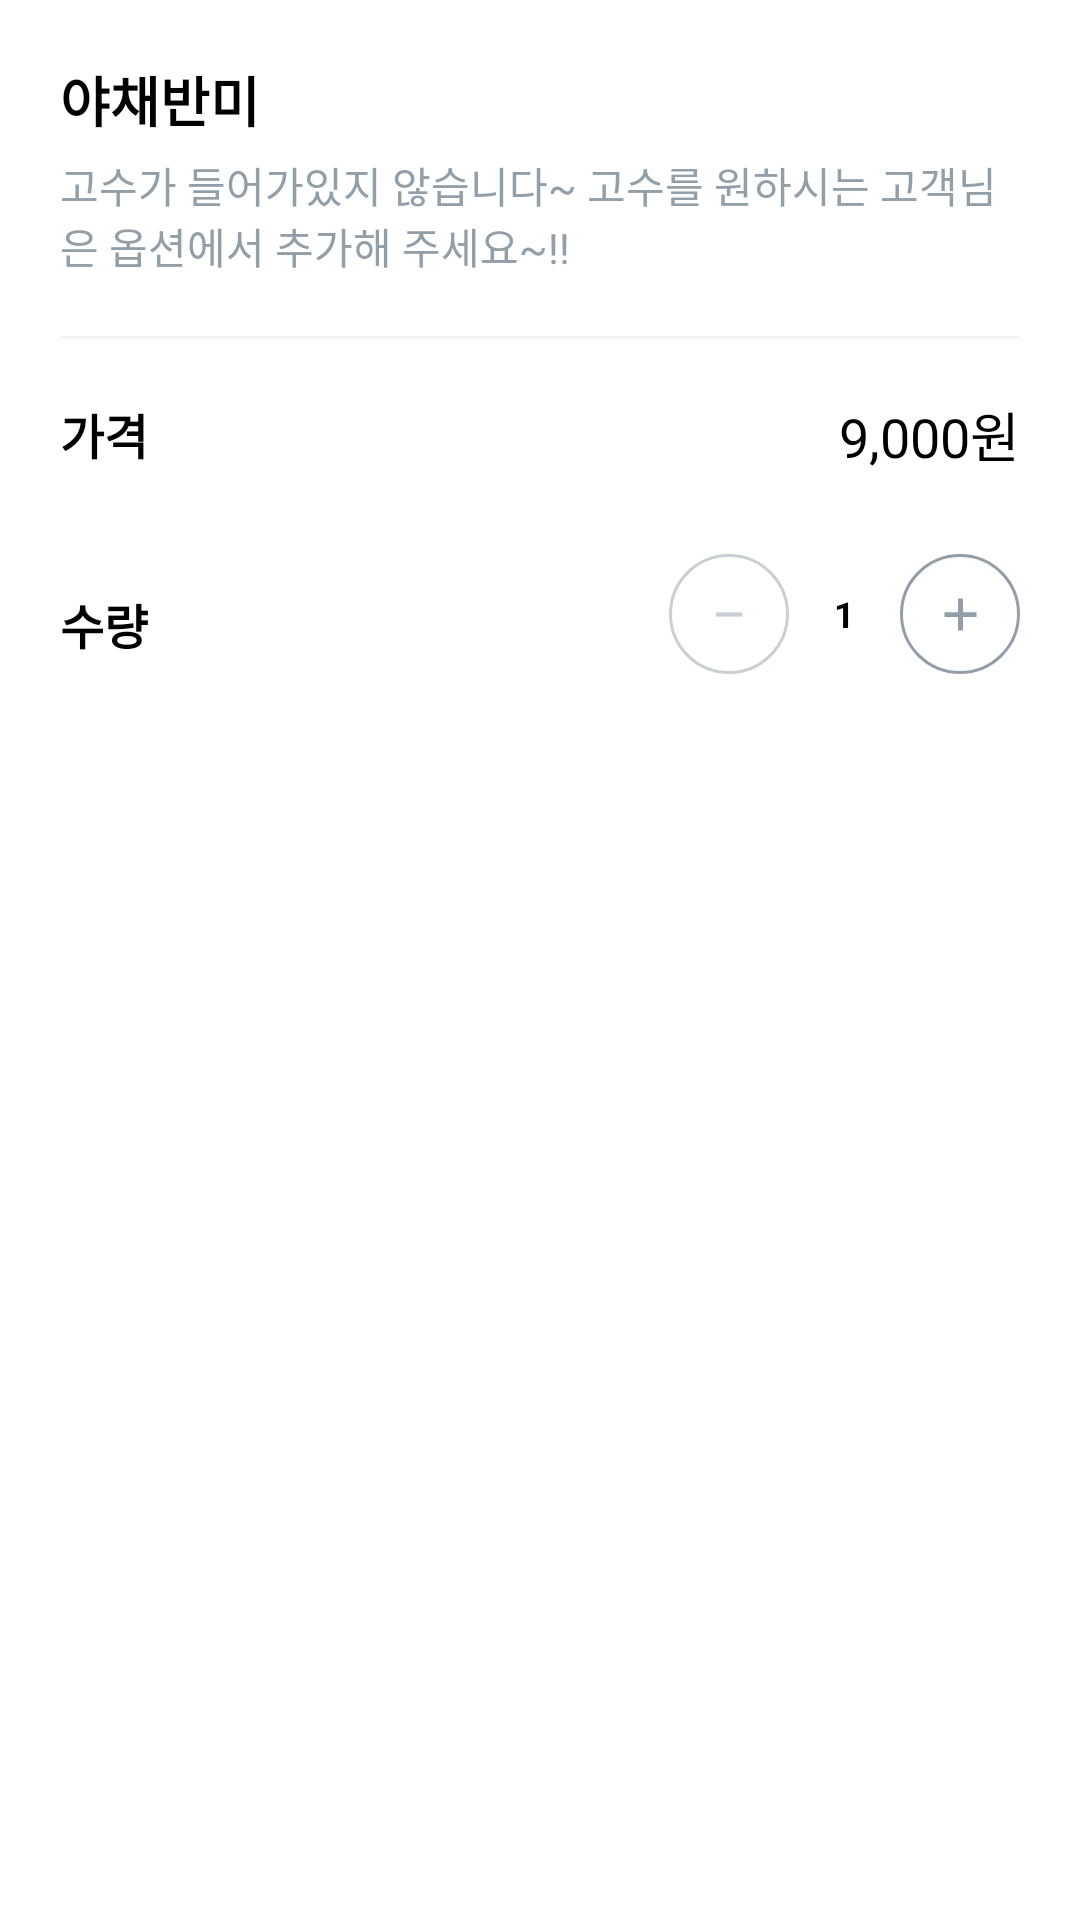

Locate icon controls on the screen. Image size 1080w x 1920h, boxes as bbox(x1, y1, x2, y2).
minus: bbox(669, 554, 789, 674)
plus: bbox(900, 554, 1020, 674)
